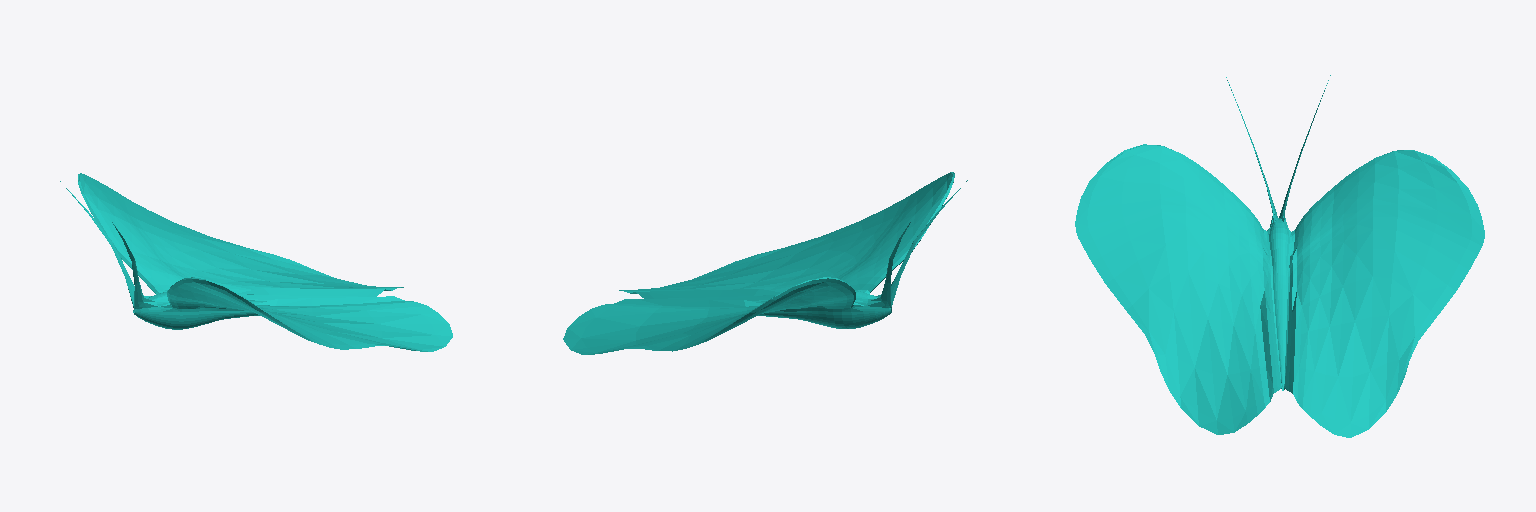
Rendered from butterfly.obj.
3 views of the same model, side by side, from view 1: azimuth 30°, elevation 25°; view 2: azimuth 150°, elevation 25°; view 3: azimuth 270°, elevation 25° (orthographic).
Visible parts, largest first — view 1: Cylinder10; view 2: Cylinder10; view 3: Cylinder10.
Part boxes in pixels (x1,y1,x2,y2): Cylinder10: (60,173,452,351); Cylinder10: (563,172,967,354); Cylinder10: (1075,75,1484,437).
Bounding box in the file's own units: 9.14 × 5 × 9.34.